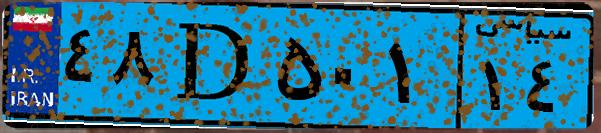0: (330, 28, 385, 110)
1: (385, 28, 445, 110), (475, 38, 525, 113)
4: (57, 26, 110, 100), (525, 38, 570, 115)
5: (270, 28, 330, 110)
8: (110, 28, 158, 98)
D: (158, 12, 270, 120)
